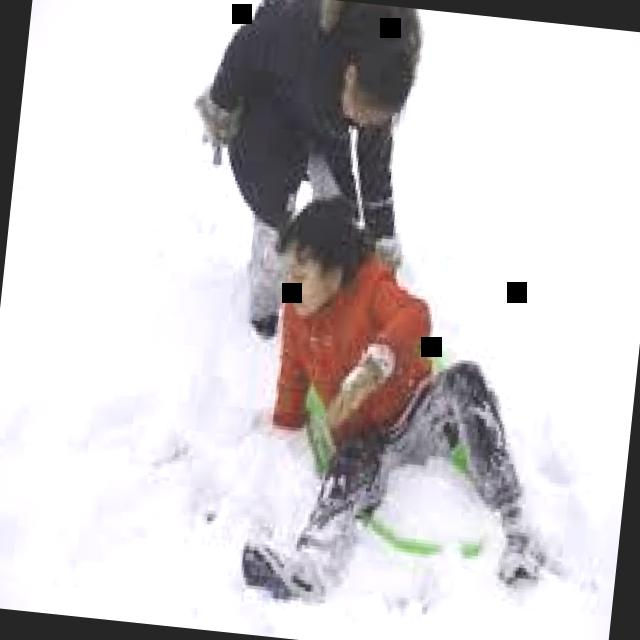Fall-Detected: (227, 153, 618, 636)
